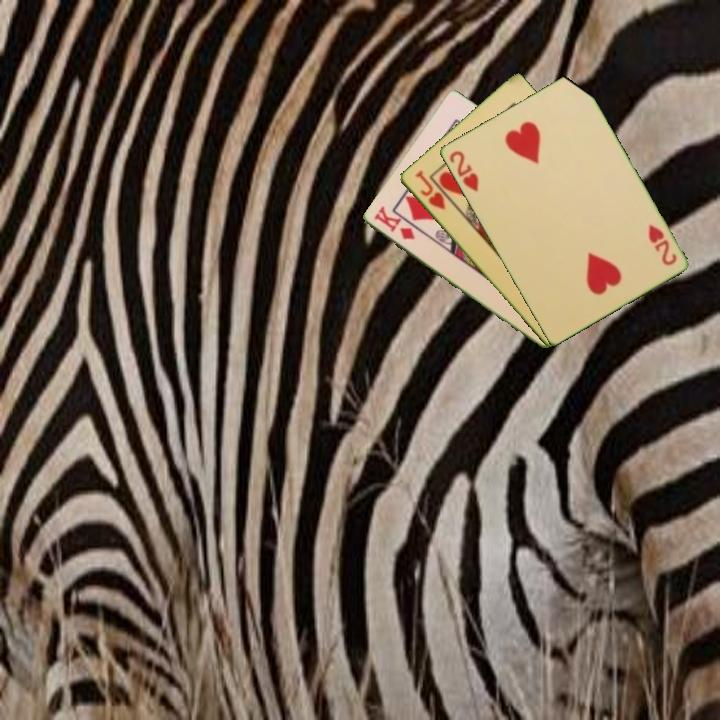2h: (445, 147, 481, 195), (644, 221, 679, 269)
Jh: (411, 166, 448, 212)
Kd: (370, 204, 418, 243)
